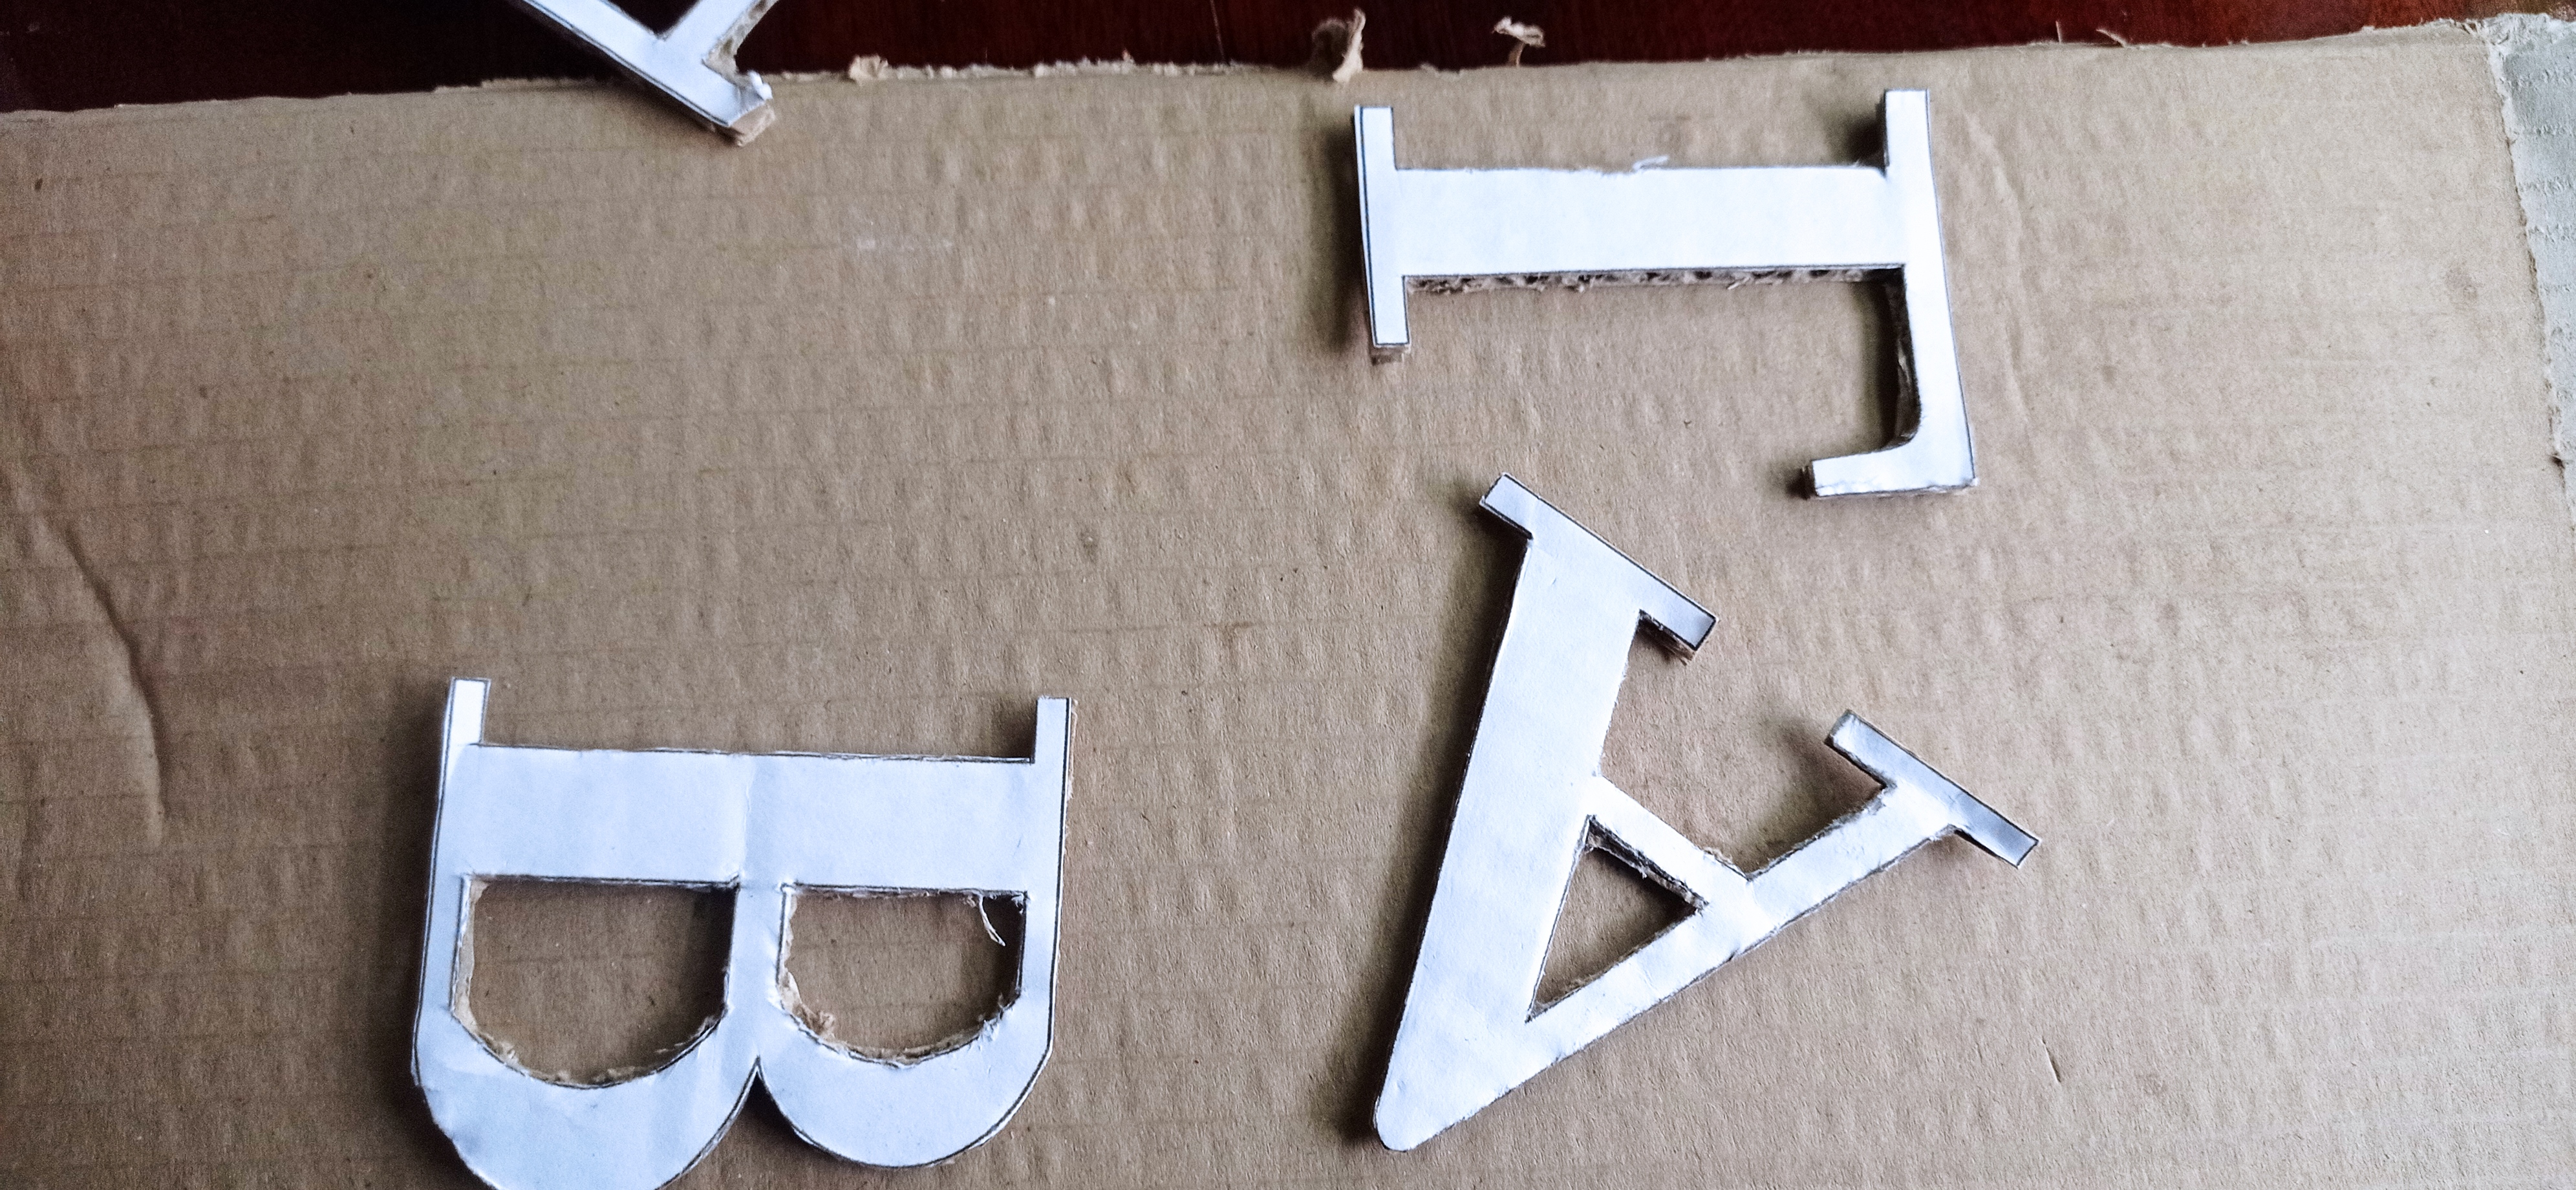a: (1367, 473, 2039, 1155)
g: (1352, 87, 1978, 496)
v: (411, 674, 1073, 1190)
